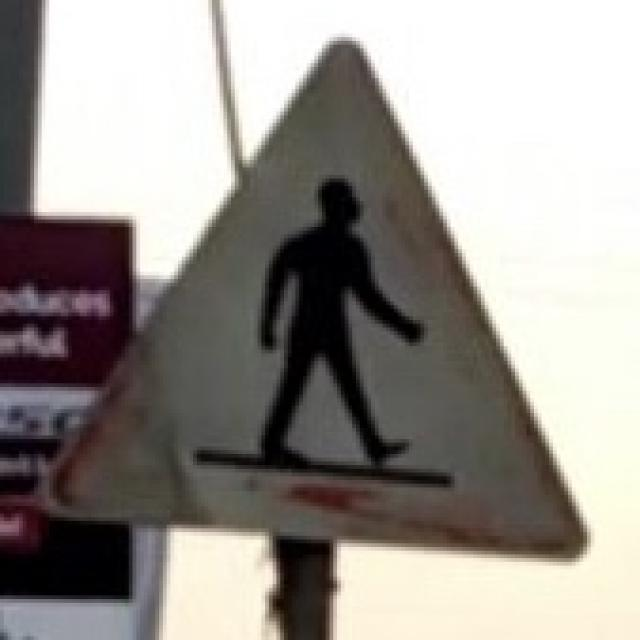pedestrian crossing: (45, 33, 589, 567)
